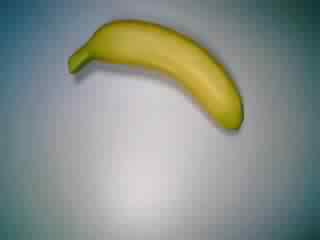banana: (67, 18, 245, 133)
